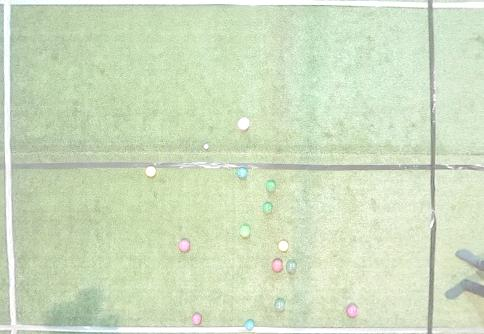blue: (245, 319, 255, 331), (237, 168, 248, 178)
green: (239, 225, 251, 237), (286, 260, 297, 273), (274, 299, 285, 312), (262, 202, 273, 214), (265, 181, 276, 192)
red: (237, 117, 250, 130), (272, 259, 283, 272), (347, 304, 358, 317), (179, 239, 190, 251), (192, 313, 202, 325)
vline: (427, 1, 484, 333), (0, 1, 20, 333)
white: (204, 144, 209, 149)
yellow: (145, 166, 157, 177), (278, 241, 288, 251)
